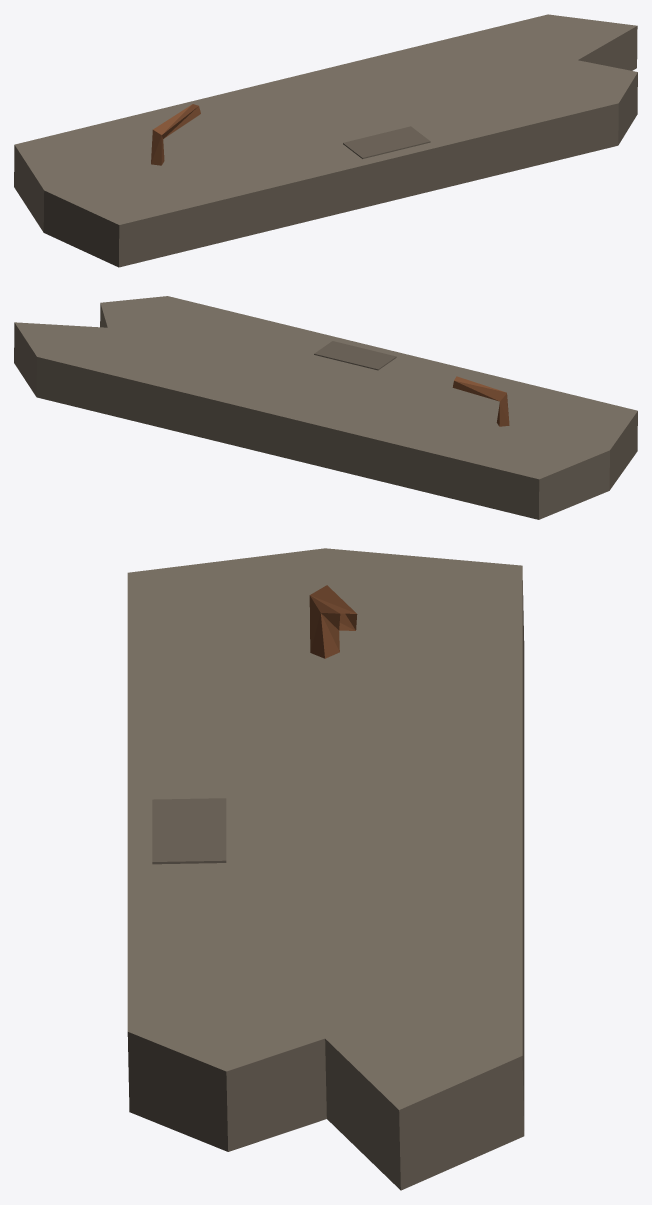
File: GroundDetail_GardenDebris_A.fbx
3 views of the same model, one above another, from view 1: azimuth 30°, elevation 25°; view 2: azimuth 150°, elevation 25°; view 3: azimuth 270°, elevation 25° (orthographic). The views are drawn at different scales.
Parts seen in each view (by area): view 1: GroundDetail_GardenDebris_A; view 2: GroundDetail_GardenDebris_A; view 3: GroundDetail_GardenDebris_A.
Boxes of the visible parts, x1,y1,x2,y2 form: GroundDetail_GardenDebris_A: (14,14,637,267); GroundDetail_GardenDebris_A: (14,296,637,519); GroundDetail_GardenDebris_A: (127,548,524,1190).
Size of the model in its own units: 0.27 by 0.0368 by 0.0803.
1 material, 1 textured.
